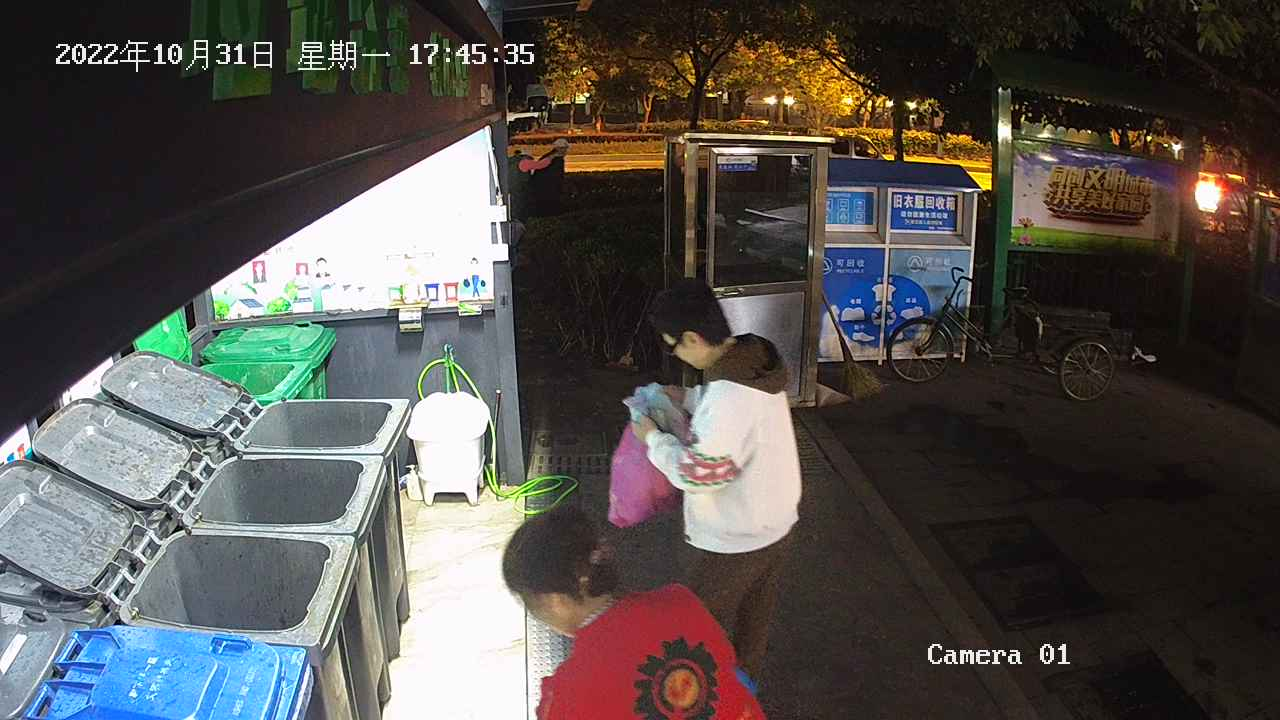garbage-bag: (605, 380, 700, 530)
person: (628, 276, 805, 695), (501, 504, 769, 720)
